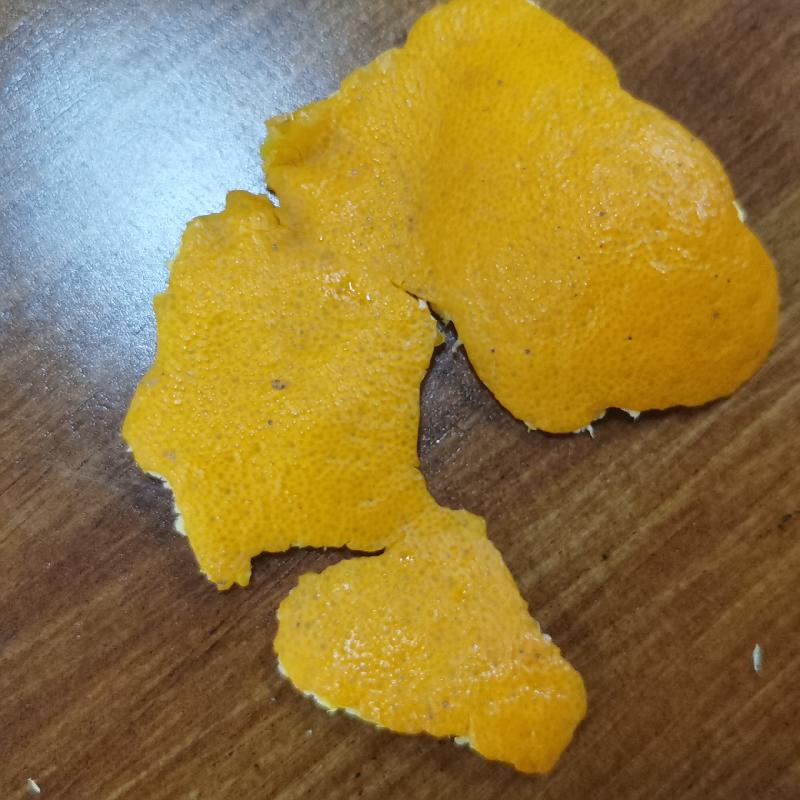orange: (118, 6, 784, 760)
